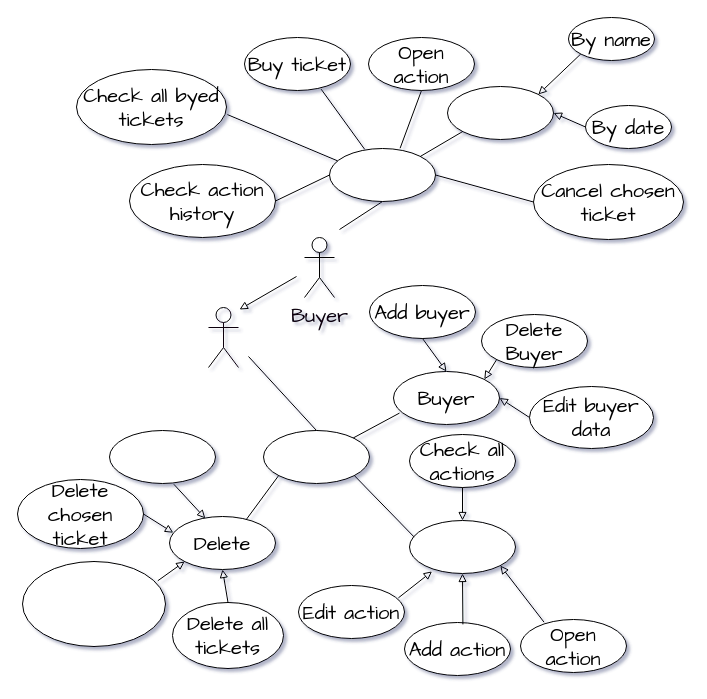
Some shapes in this 707 by 699 pixel diagram are drawn without their labels. The centre of each missing label's shape, as x and y in pixels:
Actions: point 462,547
Admin: point 223,337
Admin menu: point 316,457
Buyer menu: point 382,175
Delete action: point 162,457
Delete all ticket by action: point 94,603
Find action: point 500,113
